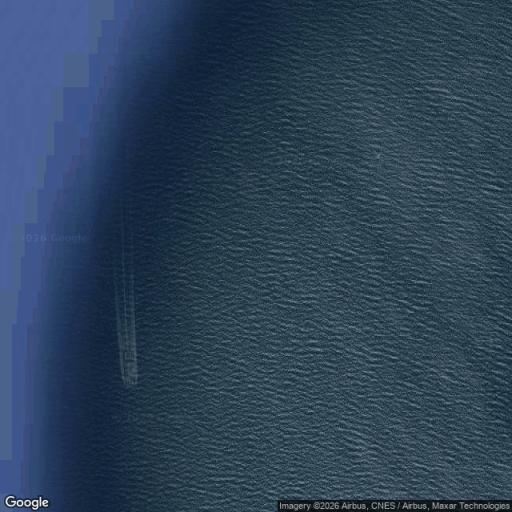ship: (104, 180, 149, 392)
